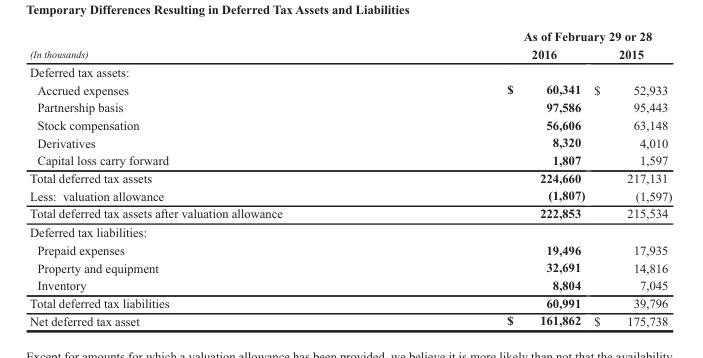table: (28, 29, 671, 327)
table column: (28, 29, 394, 327), (394, 29, 588, 327), (588, 29, 671, 327)
table column header: (28, 29, 671, 62)
table projected row header: (28, 62, 671, 80), (28, 222, 671, 240)
table row: (28, 44, 671, 62), (28, 62, 671, 80), (28, 80, 671, 98), (28, 115, 671, 133), (28, 133, 671, 151), (28, 168, 671, 186), (28, 186, 671, 204), (28, 204, 671, 222), (28, 222, 671, 240), (28, 240, 671, 258), (28, 258, 671, 276), (28, 293, 671, 311), (28, 98, 671, 115), (28, 151, 671, 168), (28, 276, 671, 293), (28, 311, 671, 327), (28, 29, 671, 44)
table spanning cell: (28, 29, 394, 62), (394, 29, 671, 44)
